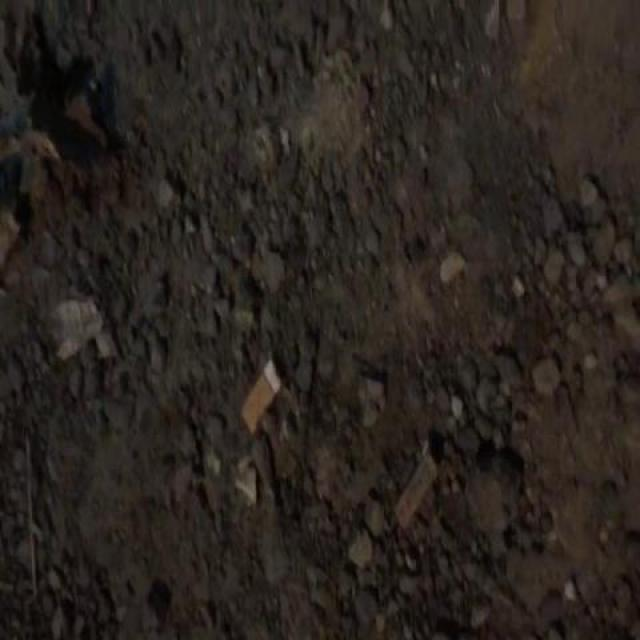non-organic waste: (237, 352, 286, 444)
